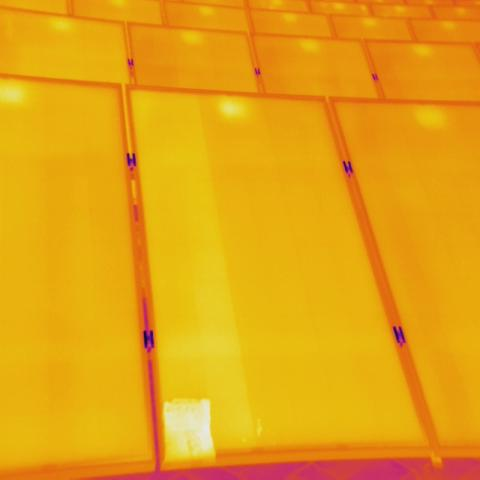fault: (159, 392, 219, 465), (218, 95, 246, 122)
